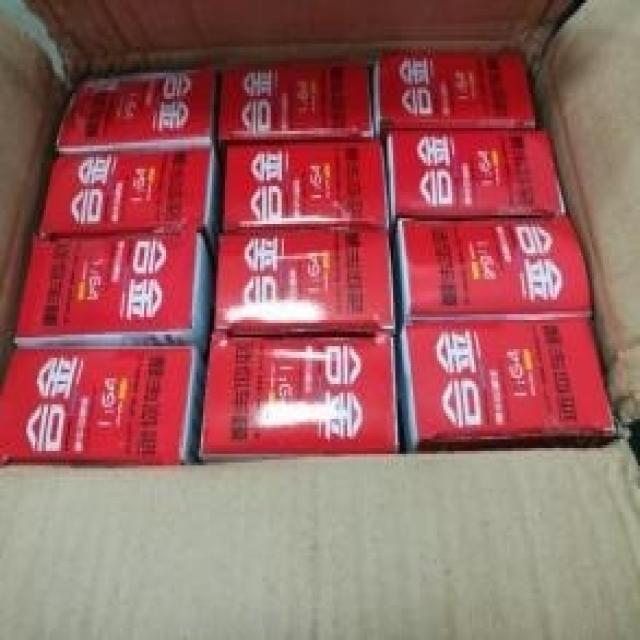box: (1, 1, 638, 637), (394, 314, 619, 451), (12, 224, 214, 360), (198, 328, 398, 462), (0, 340, 204, 461), (43, 143, 226, 268), (394, 216, 593, 328), (212, 228, 394, 331), (387, 126, 568, 218), (222, 141, 392, 229), (367, 49, 536, 136), (213, 55, 373, 140), (55, 69, 218, 152)
